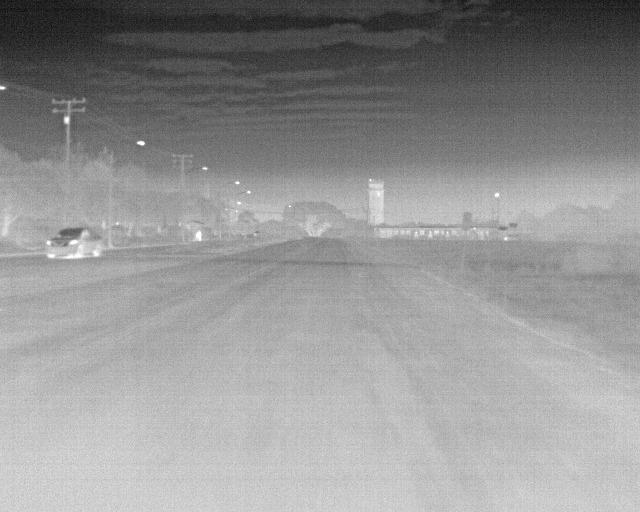car: (44, 226, 108, 260)
